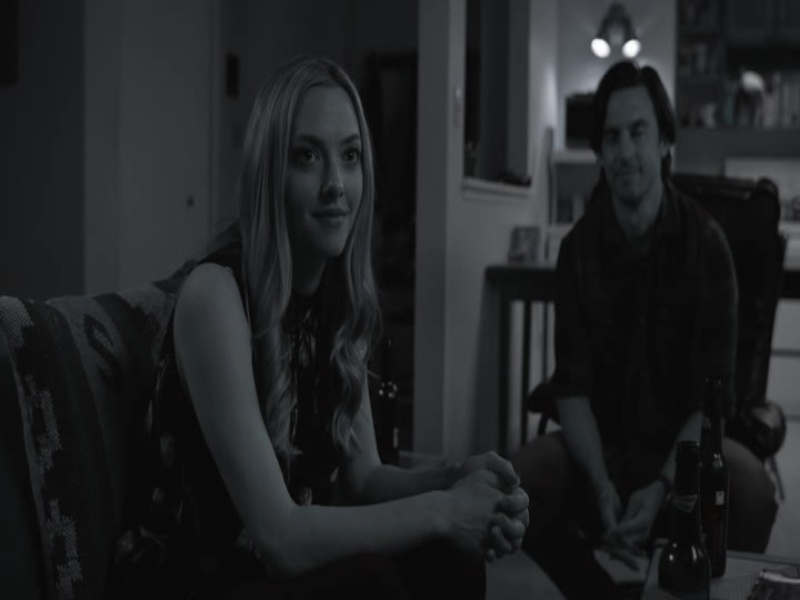TsisyArotava: (264, 63, 379, 265), (585, 65, 674, 210)
